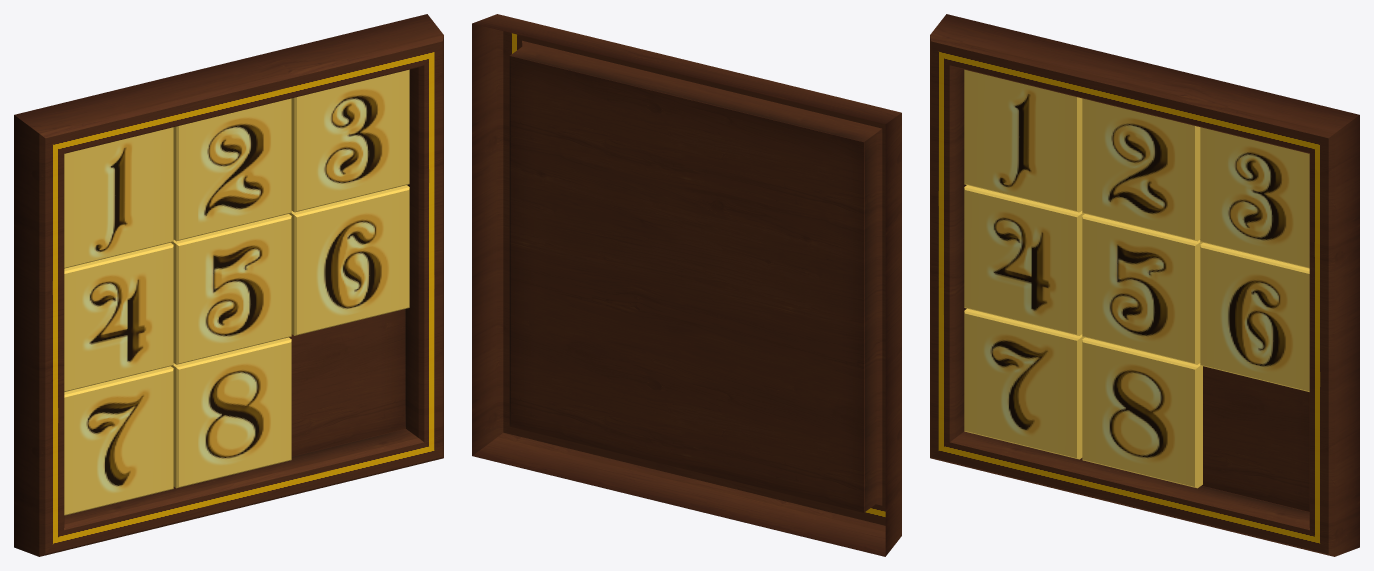
File: SlidingPuzzle.fbx
The picture shows the model from 3 angles, left to right: view 1: azimuth 30°, elevation 25°; view 2: azimuth 150°, elevation 25°; view 3: azimuth 330°, elevation 25°; orthographic projection.
Visible parts, largest first — view 1: SlidingPuzzle_Box, SlidingPuzzle_8, SlidingPuzzle_5, SlidingPuzzle_6, SlidingPuzzle_3, SlidingPuzzle_2, SlidingPuzzle_7, SlidingPuzzle_4, SlidingPuzzle_1; view 2: SlidingPuzzle_Box; view 3: SlidingPuzzle_Box, SlidingPuzzle_8, SlidingPuzzle_7, SlidingPuzzle_5, SlidingPuzzle_4, SlidingPuzzle_1, SlidingPuzzle_2, SlidingPuzzle_6, SlidingPuzzle_3.
Part boxes in pixels (x1,y1,x2,y2): SlidingPuzzle_Box: (14,14,443,556); SlidingPuzzle_8: (171,337,291,488); SlidingPuzzle_5: (171,214,291,364); SlidingPuzzle_6: (289,185,409,335); SlidingPuzzle_3: (291,69,409,212); SlidingPuzzle_2: (173,98,291,241); SlidingPuzzle_7: (64,366,173,515); SlidingPuzzle_4: (64,242,173,391); SlidingPuzzle_1: (64,127,173,268); SlidingPuzzle_Box: (472,14,901,556); SlidingPuzzle_Box: (930,14,1359,556); SlidingPuzzle_8: (1082,337,1202,488); SlidingPuzzle_7: (964,308,1084,459); SlidingPuzzle_5: (1082,214,1202,364); SlidingPuzzle_4: (964,185,1084,335); SlidingPuzzle_1: (964,69,1082,212); SlidingPuzzle_2: (1082,98,1200,241); SlidingPuzzle_6: (1200,242,1309,391); SlidingPuzzle_3: (1200,127,1309,268).
Bounding box in the file's own units: 61.48 × 61.48 × 6.
